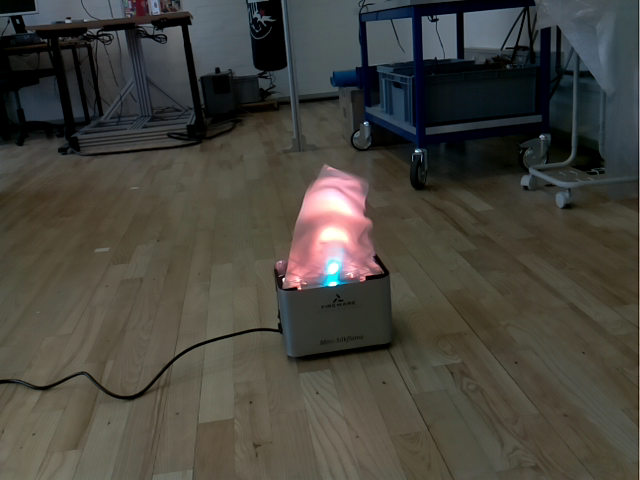fire: (279, 165, 388, 291)
